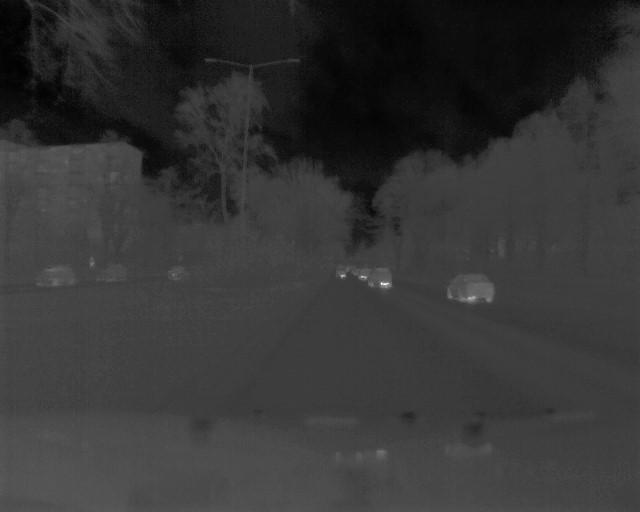car: (447, 273, 497, 302), (35, 264, 78, 289), (368, 267, 394, 291)
